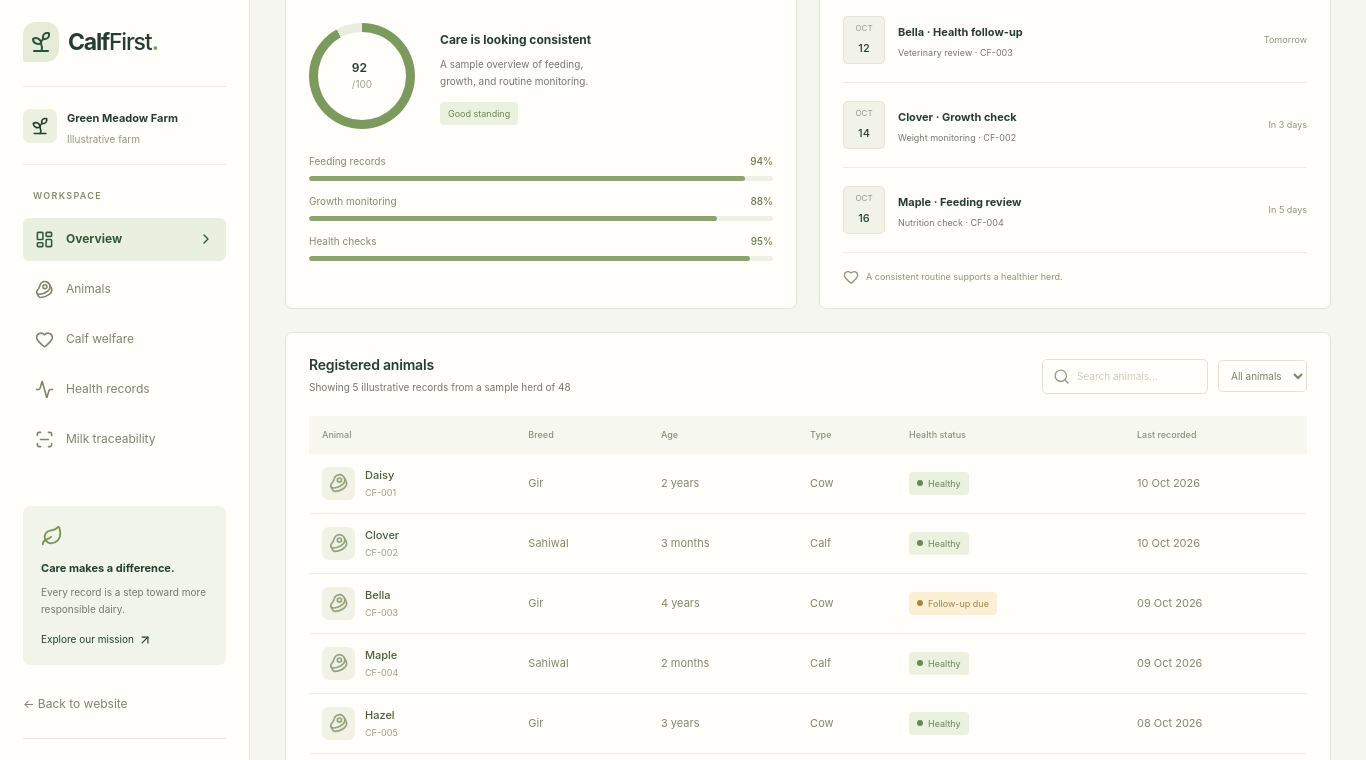
Test case: keeps the public demo separate from real farmer records and preserves its search
(page scrolled)
Type "Clover" into the field labelled "Search animals". click: (1137, 376)
box: [1077,368,1197,384]
(page scrolled)
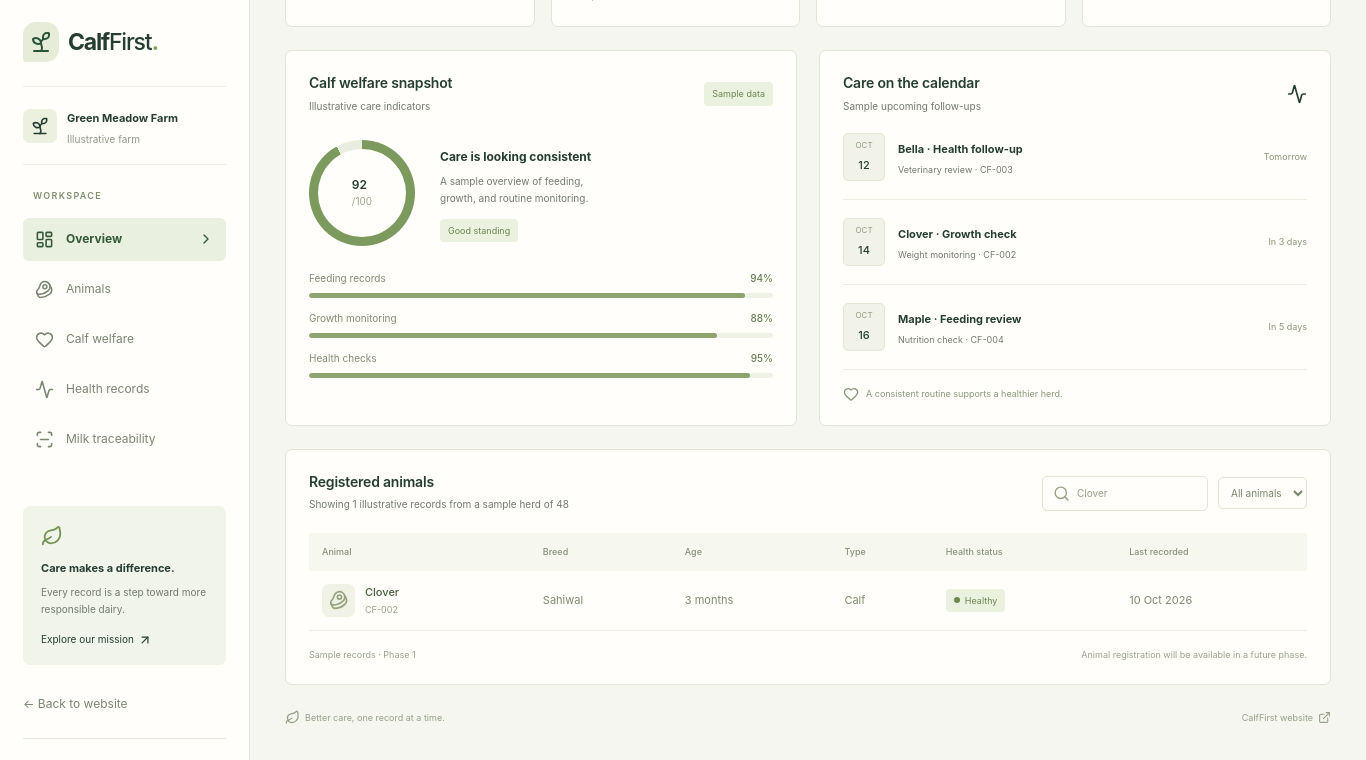
Expected: the text "Clover" is shown, [365,585,399,599]
Now the text "Daisy" is gone
